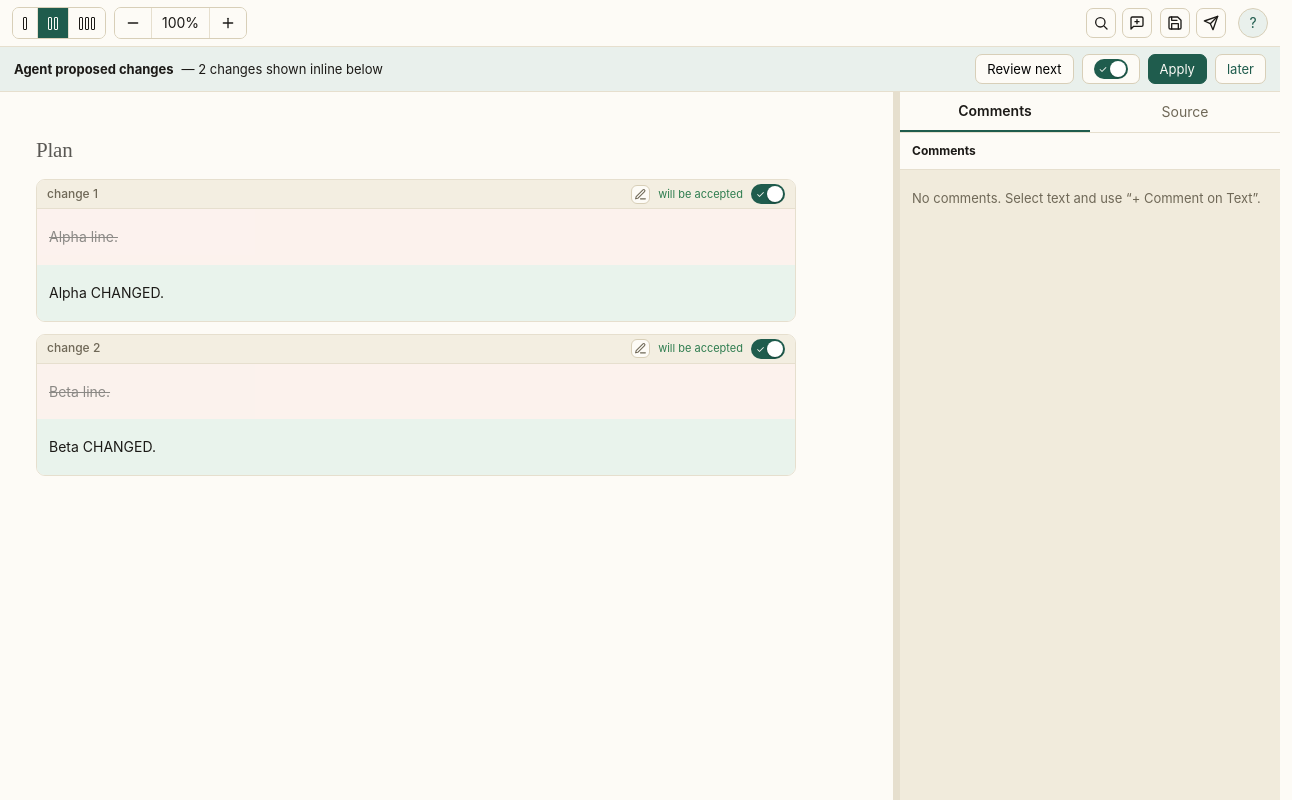
Test: review state initializes synchronously with the proposal › a tri-state reject-all clicked in the review's FIRST commit is not overwritten
This screenshot has width=1292, height=800.
Click the checkbox with class "ap-tri". click: (1110, 69)
box: left=1082, top=54, right=1140, bottom=84
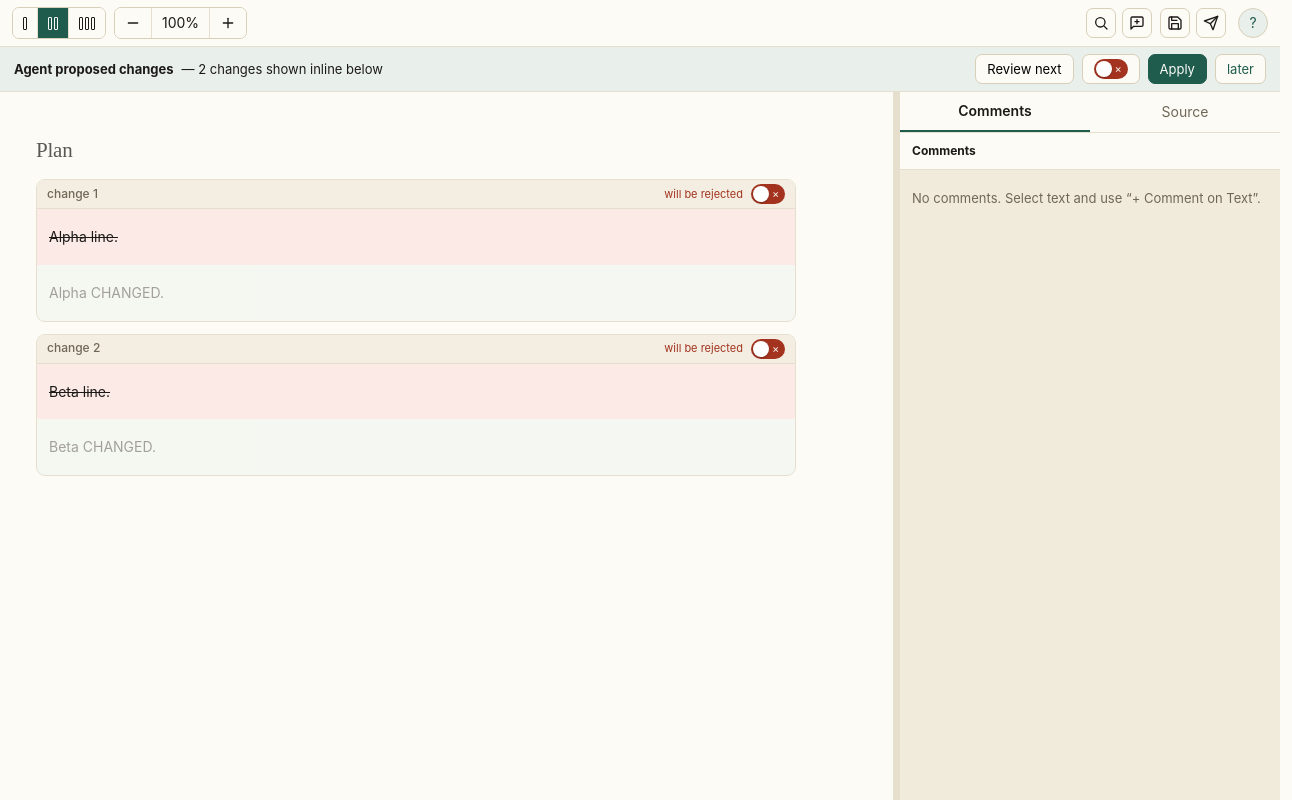
Now the text "will be accepted" is gone
# Apply keeps the original body — nothing from the proposal survives.
Click the button "Apply". click: (1177, 69)
box: left=1148, top=54, right=1207, bottom=84
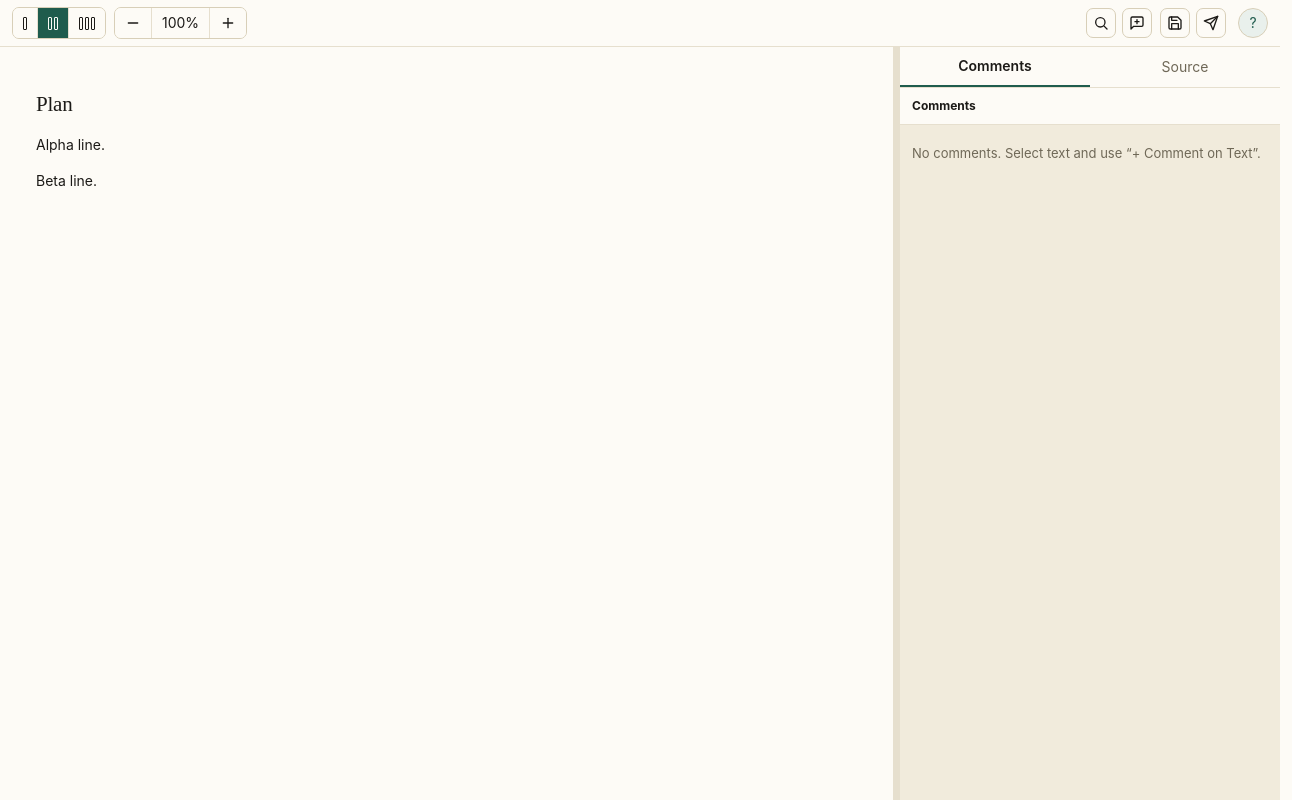
Expected: the text "Alpha line." is shown, left=36, top=136, right=105, bottom=153
Now the text "Agent proposed changes" is gone
Now the text "CHANGED" is gone
